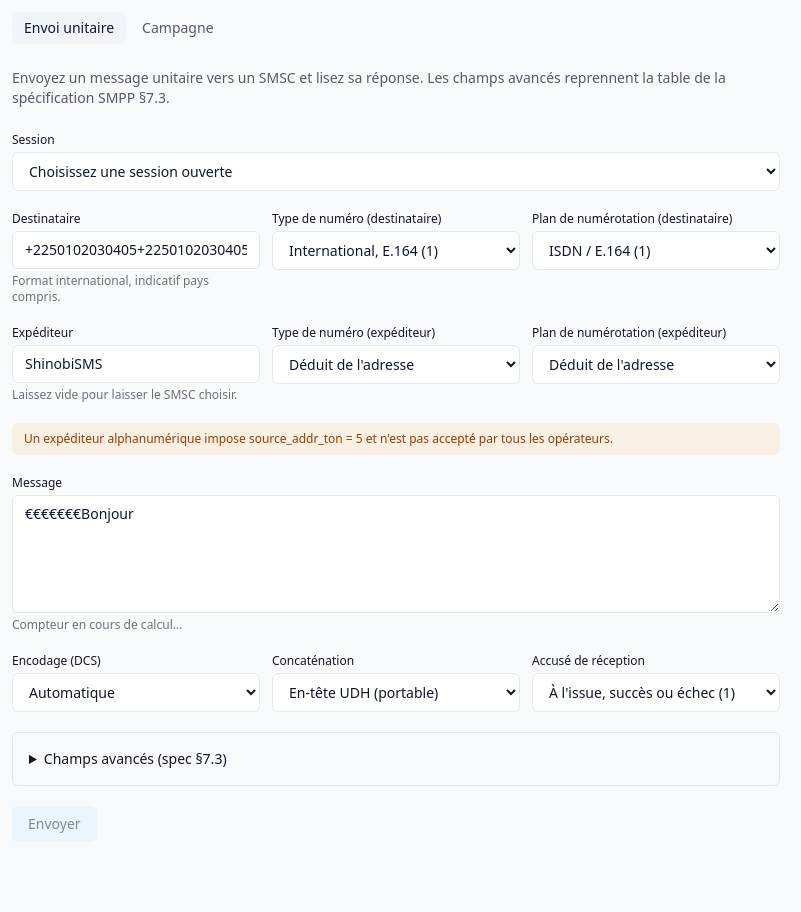
Scenario: Send › Simple › adopts the state the backend pushes rather than deriving one
Select "Operator A — smsc.example.test:2775" in the dropdown labelled "Session": {"x": 396, "y": 172} [12,152,780,191]
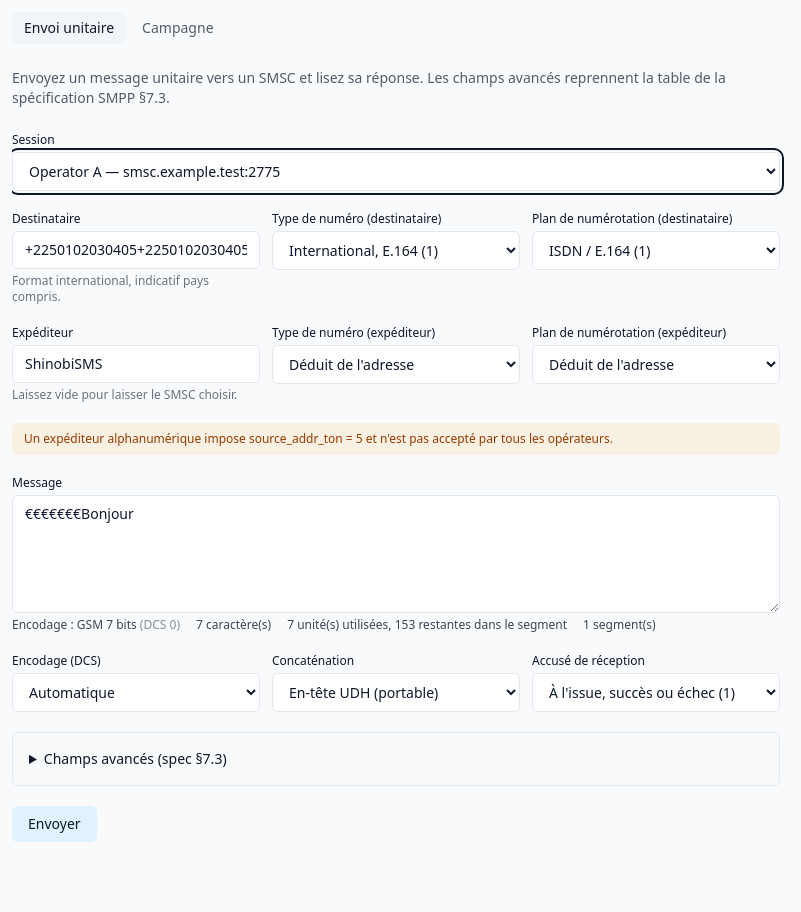
In the field labelled "Destinataire": {"x": 136, "y": 250} [12,231,260,269], type "+2250102030405"
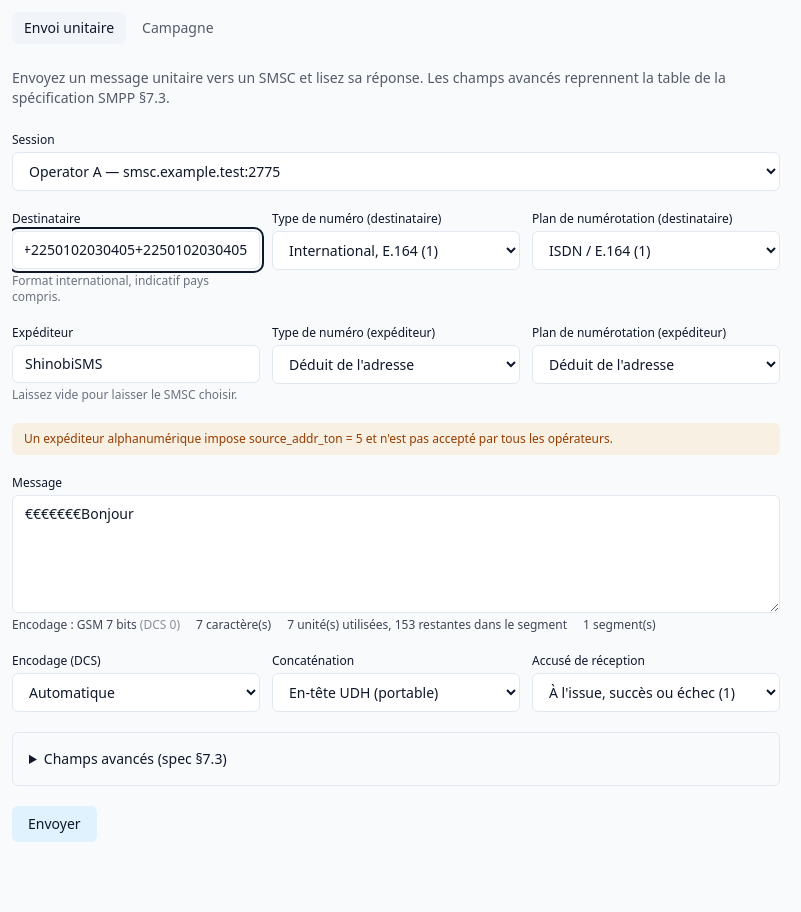
Click the button "Envoyer": {"x": 54, "y": 824} [12,806,97,842]
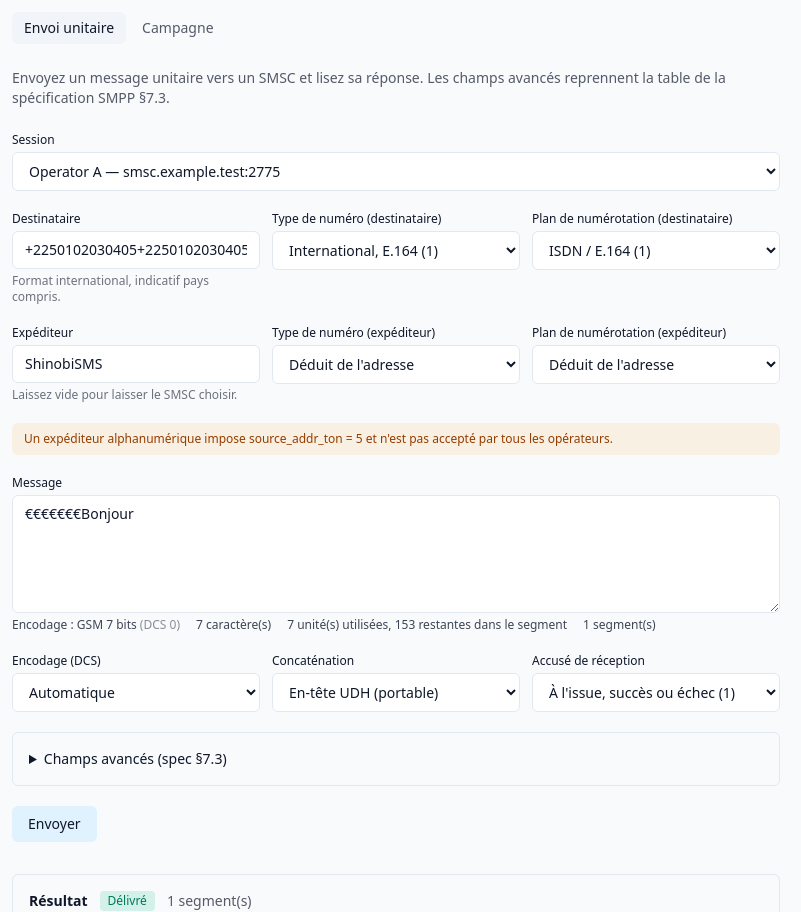
Result: the text "Délivré" is shown at [100,891,155,911]
